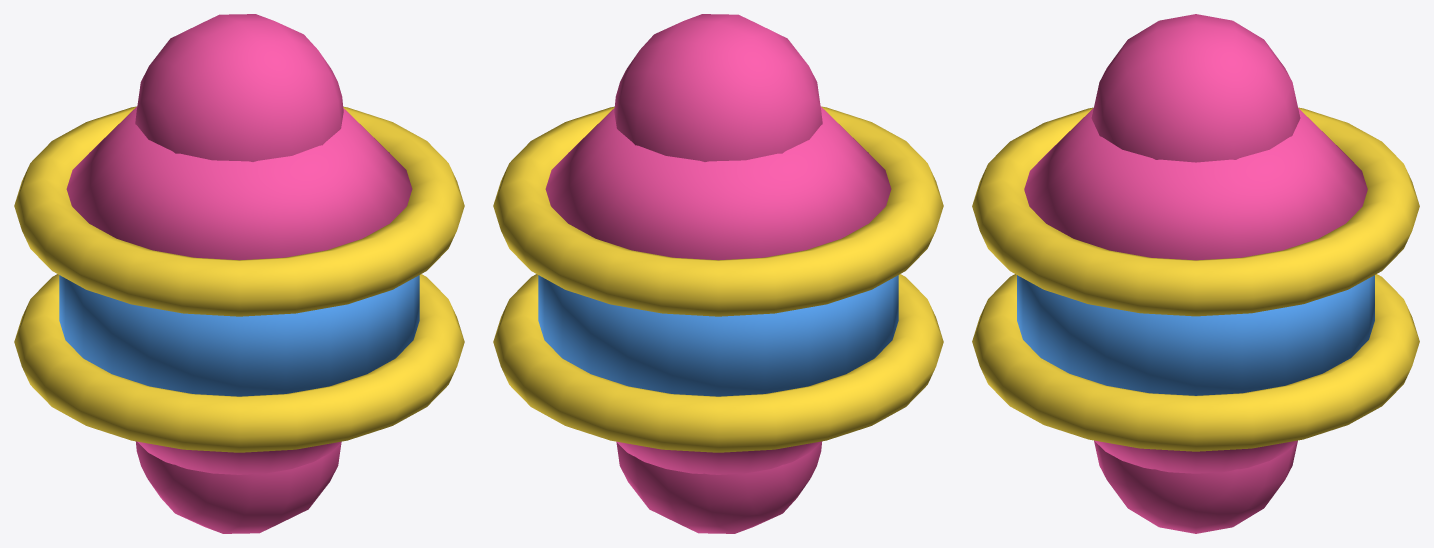
File: Bomb_Vertical.fbx
3 renders of one model, left to right at view 1: azimuth 30°, elevation 25°; view 2: azimuth 150°, elevation 25°; view 3: azimuth 270°, elevation 25°, orthographic.
Parts seen in each view (by area): view 1: Bomb_Stripe_V; view 2: Bomb_Stripe_V; view 3: Bomb_Stripe_V.
Part boxes in pixels (left/top/right/bottom): Bomb_Stripe_V: left=14, top=14, right=464, bottom=533; Bomb_Stripe_V: left=493, top=14, right=943, bottom=533; Bomb_Stripe_V: left=972, top=14, right=1419, bottom=533.
Bounding box in the file's own units: 0.6 × 0.74 × 0.6.
